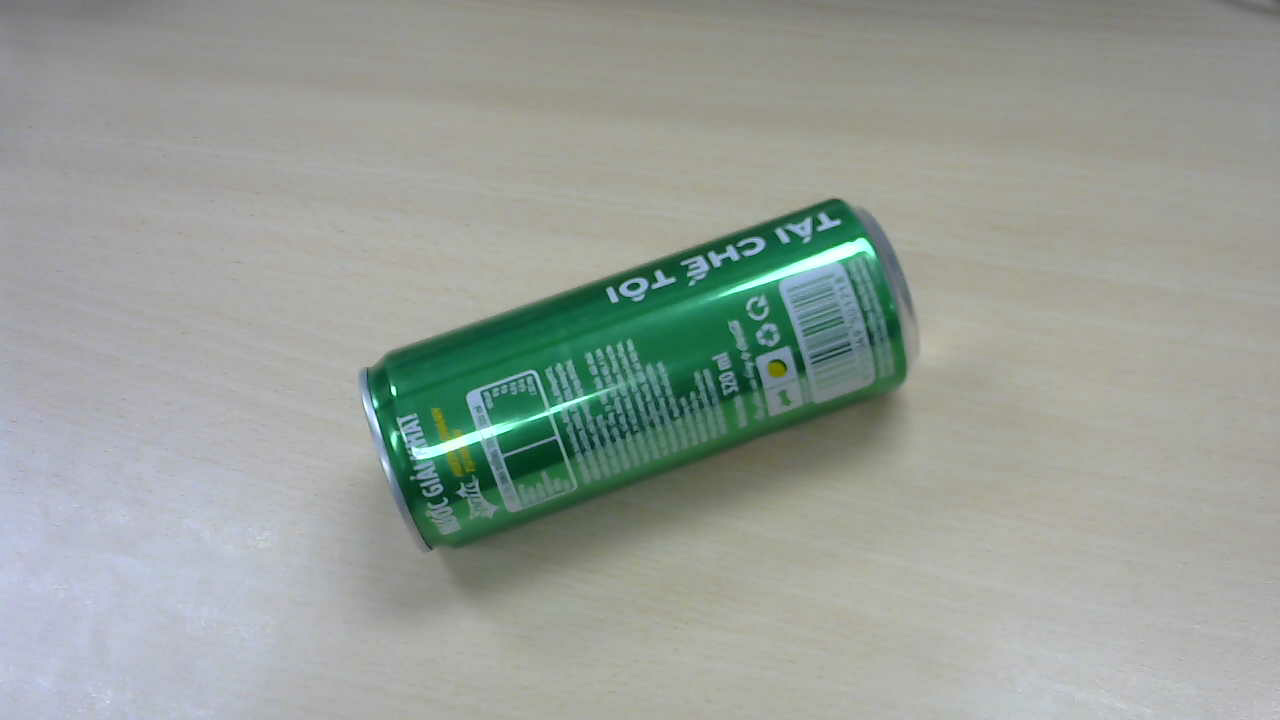Sprite: (366, 204, 915, 556)
